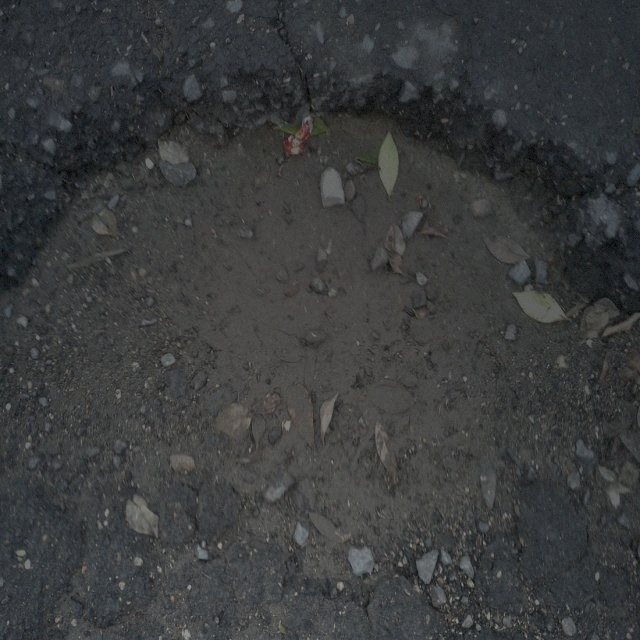pothole: (13, 54, 601, 517)
